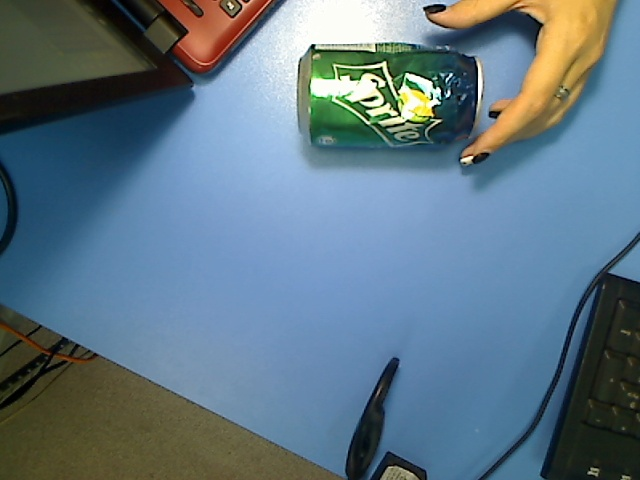can: (292, 38, 487, 154)
